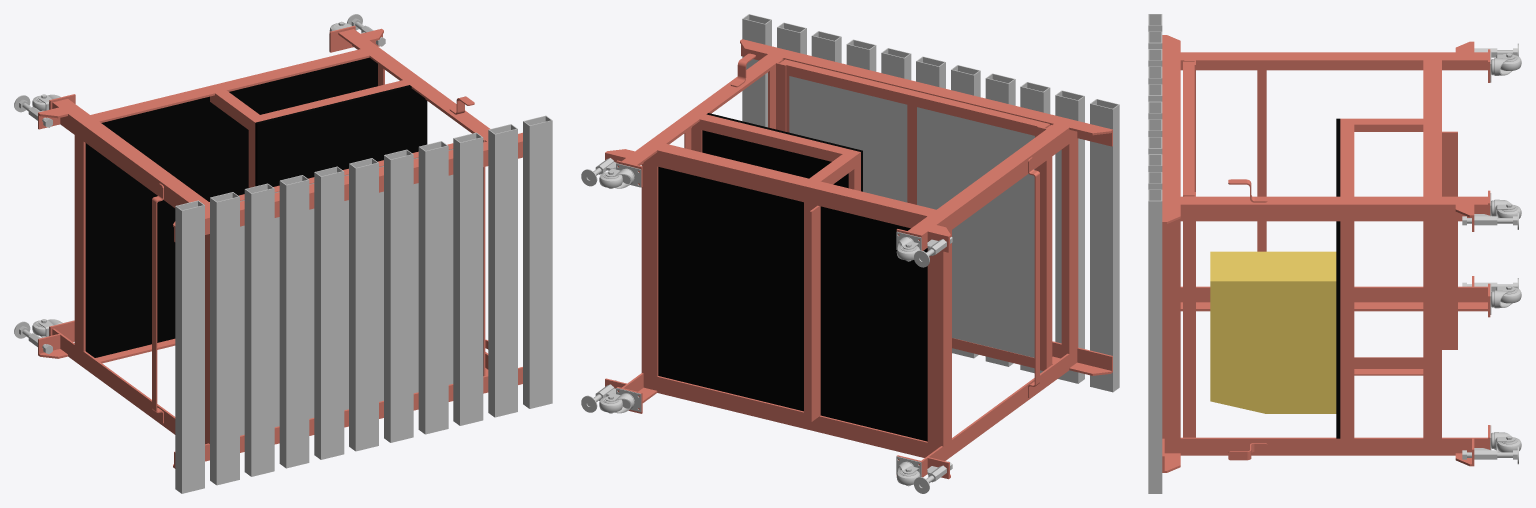
File: Welding table v3.glb
3 renders of one model, left to right at view 1: azimuth 30°, elevation 25°; view 2: azimuth 150°, elevation 25°; view 3: azimuth 270°, elevation 25°, orthographic. The views are drawn at different scales.
Parts seen in each view (by area): view 1: Top :1, Welding table, Frame:1, Dust tray:1, コンポーネント5:1, コンポーネント5(ミラー):1; view 2: Welding table, Frame:1, Dust tray:1, Top :1, コンポーネント5(ミラー):1, 8789T31_Cart-King Caster(ミラー) (1):1, 8789T31_Cart-King Caster(ミラー)(ミラー):1, コンポーネント5:1, コンポーネント5(ミラー)(ミラー):1, 8789T31_Cart-King Caster:1, 8789T31_Cart-King Caster(ミラー):1; view 3: Frame:1, Welding table, Top :1, Dust tray:1, コンポーネント5(ミラー)(ミラー):1, コンポーネント5(ミラー) (1):1, 8789T31_Cart-King Caster:1, 8789T31_Cart-King Caster(ミラー):1, 8789T31_Cart-King Caster(ミラー) (1):1, 8789T31_Cart-King Caster(ミラー)(ミラー):1, コンポーネント5(ミラー):1.
Part boxes in pixels (bbox=[...]): Top :1: bbox=[175, 115, 552, 493]; Welding table: bbox=[85, 57, 427, 357]; Frame:1: bbox=[49, 25, 522, 468]; Dust tray:1: bbox=[239, 143, 453, 435]; コンポーネント5:1: bbox=[14, 321, 67, 358]; コンポーネント5(ミラー):1: bbox=[14, 95, 67, 129]; Welding table: bbox=[658, 113, 927, 441]; Frame:1: bbox=[616, 39, 1112, 477]; Dust tray:1: bbox=[780, 59, 1049, 368]; Top :1: bbox=[742, 14, 1119, 392]; コンポーネント5(ミラー):1: bbox=[914, 225, 952, 267]; 8789T31_Cart-King Caster(ミラー) (1):1: bbox=[599, 388, 641, 413]; 8789T31_Cart-King Caster(ミラー)(ミラー):1: bbox=[599, 163, 641, 188]; コンポーネント5:1: bbox=[914, 457, 952, 493]; コンポーネント5(ミラー)(ミラー):1: bbox=[581, 149, 634, 186]; 8789T31_Cart-King Caster:1: bbox=[896, 456, 921, 486]; 8789T31_Cart-King Caster(ミラー):1: bbox=[896, 231, 921, 261]; Frame:1: bbox=[1162, 35, 1490, 472]; Welding table: bbox=[1210, 118, 1340, 438]; Top :1: bbox=[1148, 14, 1162, 493]; Dust tray:1: bbox=[1183, 61, 1194, 437]; コンポーネント5(ミラー)(ミラー):1: bbox=[1455, 204, 1518, 231]; コンポーネント5(ミラー) (1):1: bbox=[1455, 438, 1518, 466]; 8789T31_Cart-King Caster:1: bbox=[1490, 284, 1521, 314]; 8789T31_Cart-King Caster(ミラー):1: bbox=[1490, 51, 1521, 82]; 8789T31_Cart-King Caster(ミラー) (1):1: bbox=[1490, 425, 1521, 452]; 8789T31_Cart-King Caster(ミラー)(ミラー):1: bbox=[1490, 193, 1521, 218]; コンポーネント5(ミラー):1: bbox=[1455, 41, 1518, 57].
Bounding box in the file's own units: 0.96 × 0.7 × 0.8086.
